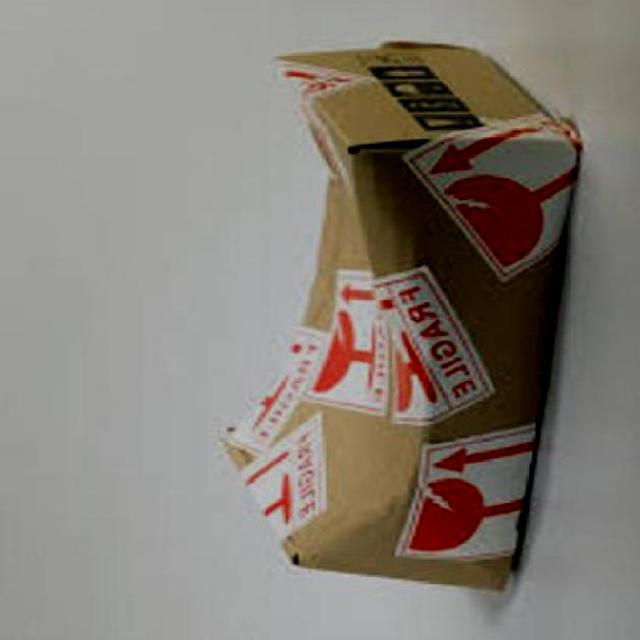crushed: (217, 39, 504, 590)
